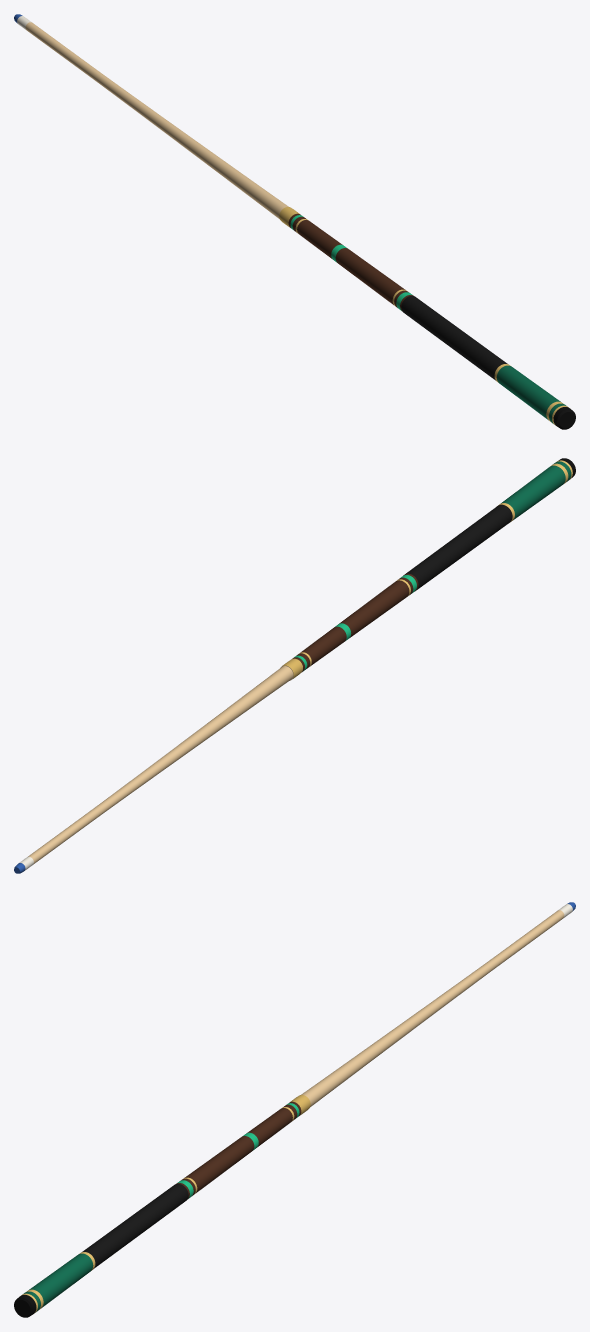
The model's file is cue_emerald_classic.glb.
3 views of the same model, one above another, from view 1: azimuth 30°, elevation 25°; view 2: azimuth 150°, elevation 25°; view 3: azimuth 330°, elevation 25° (orthographic).
Parts seen in each view (by area): view 1: cue_emerald_classic; view 2: cue_emerald_classic; view 3: cue_emerald_classic.
Boxes of the visible parts, x1,y1,x2,y2 form: cue_emerald_classic: [14, 14, 575, 429]; cue_emerald_classic: [14, 458, 575, 873]; cue_emerald_classic: [14, 902, 575, 1317].
Size of the model in its own units: 0.03 by 0.03 by 1.47.
